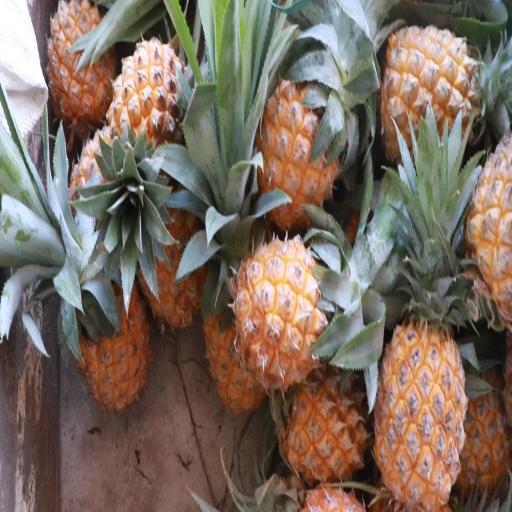Pineapple - v8 v1: (371, 278, 467, 508), (229, 225, 334, 396), (251, 73, 345, 241), (70, 237, 154, 423), (378, 25, 482, 164), (276, 351, 378, 487), (132, 160, 210, 336), (457, 130, 512, 346), (105, 38, 190, 174), (43, 0, 118, 137)
